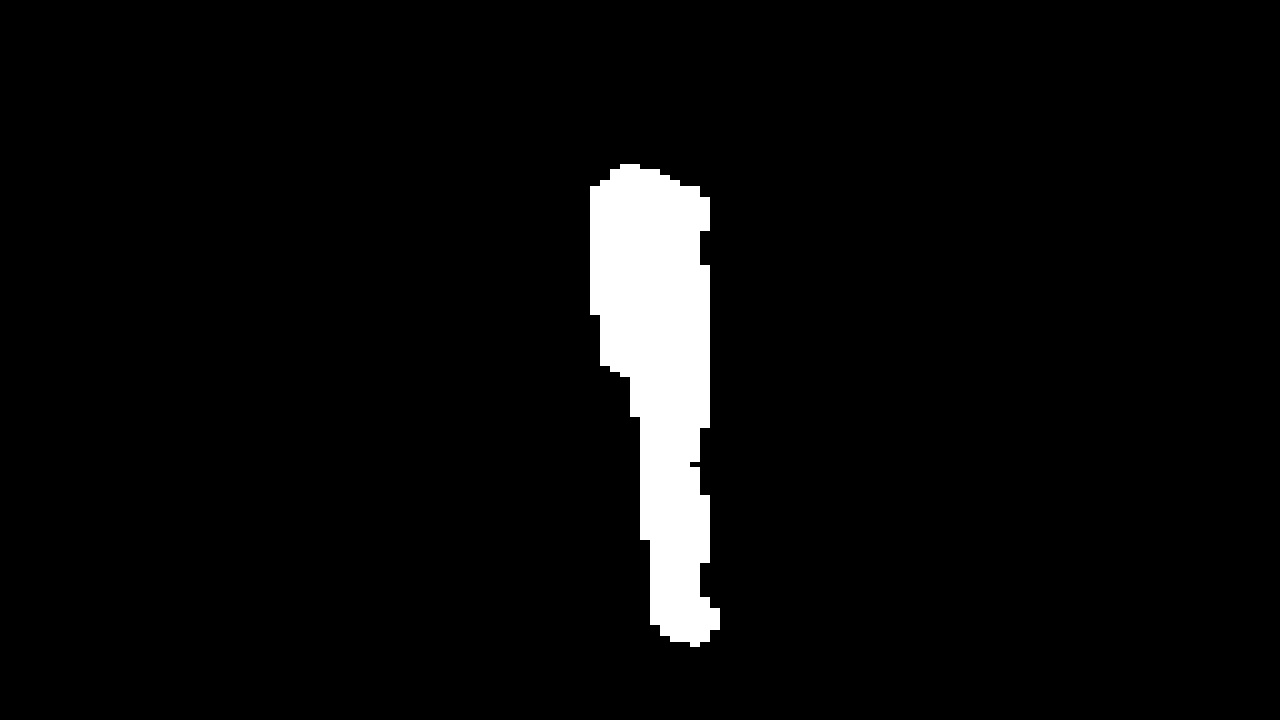Turbine: (527, 15, 769, 711)
